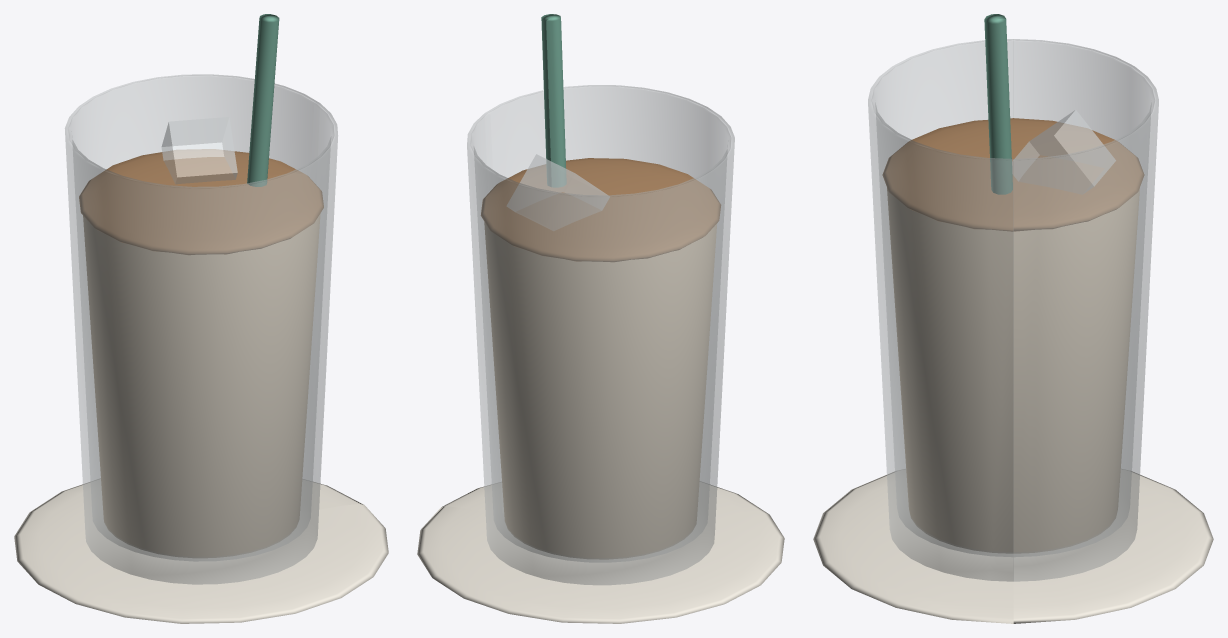
Rendered from iced-latte.glb.
The picture shows the model from 3 angles, left to right: view 1: azimuth 30°, elevation 25°; view 2: azimuth 150°, elevation 25°; view 3: azimuth 270°, elevation 25°; orthographic projection. The views are drawn at different scales.
Visible parts, largest first — view 1: iced-latte; view 2: iced-latte; view 3: iced-latte.
Boxes of the visible parts, x1=… form: iced-latte: x1=14, y1=14, x2=388, y2=623; iced-latte: x1=417, y1=14, x2=784, y2=623; iced-latte: x1=813, y1=14, x2=1213, y2=623.
Size of the model in its own units: 0.11 by 0.1702 by 0.11.
